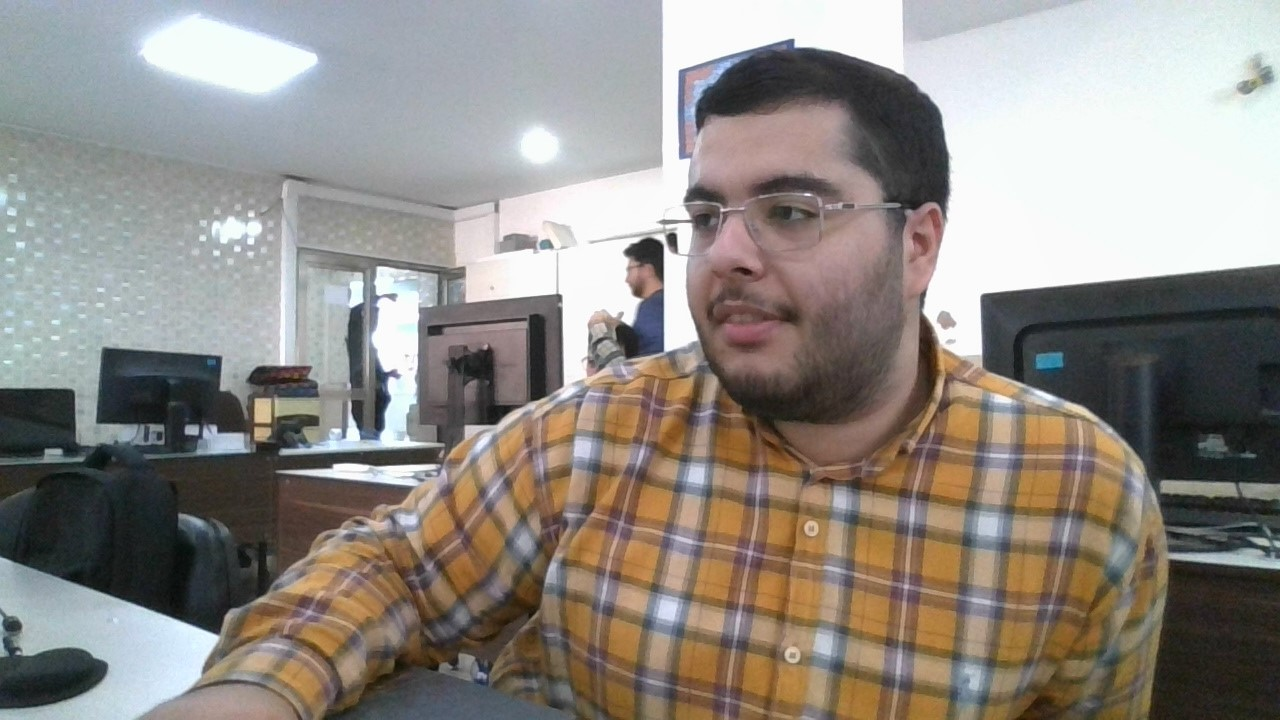NoMask: (684, 246, 905, 420)
